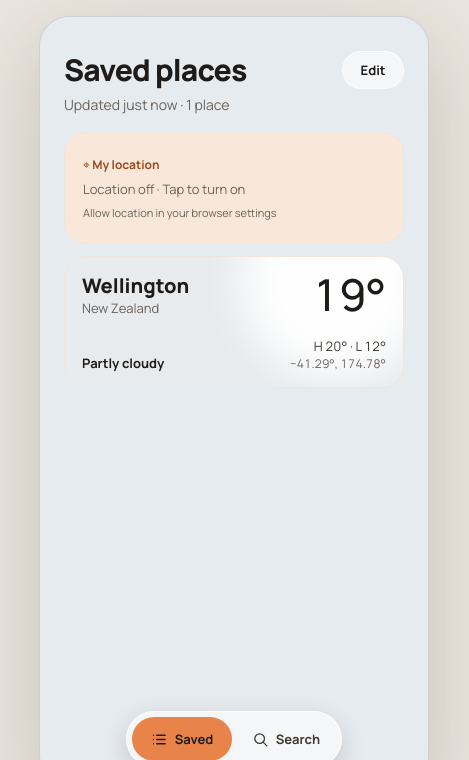
Scenario: App forecast flow › removes saved places in edit mode and updates local storage
The width and height of the screenshot is (469, 760).
Expected: the text "Wellington" is shown, [82,272,189,299]
Step 1. Click the button "Edit" → x=373, y=70, box [342,51,404,89]
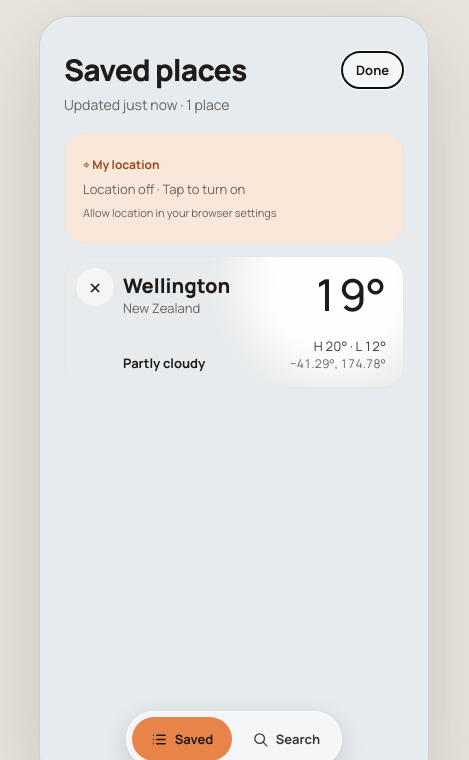
Step 2. Click the button named "Remove Wellington" → x=95, y=287, box [75,267,115,307]
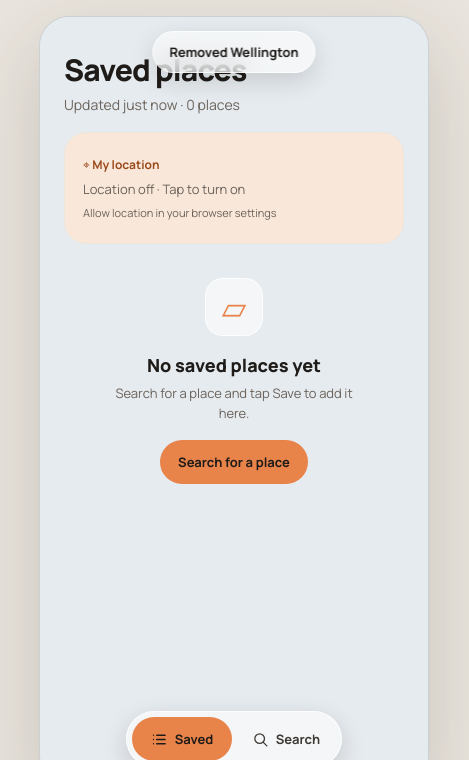
Result: the text "Removed Wellington" is shown at [152,31,316,73]
Result: the button "Done" is gone
